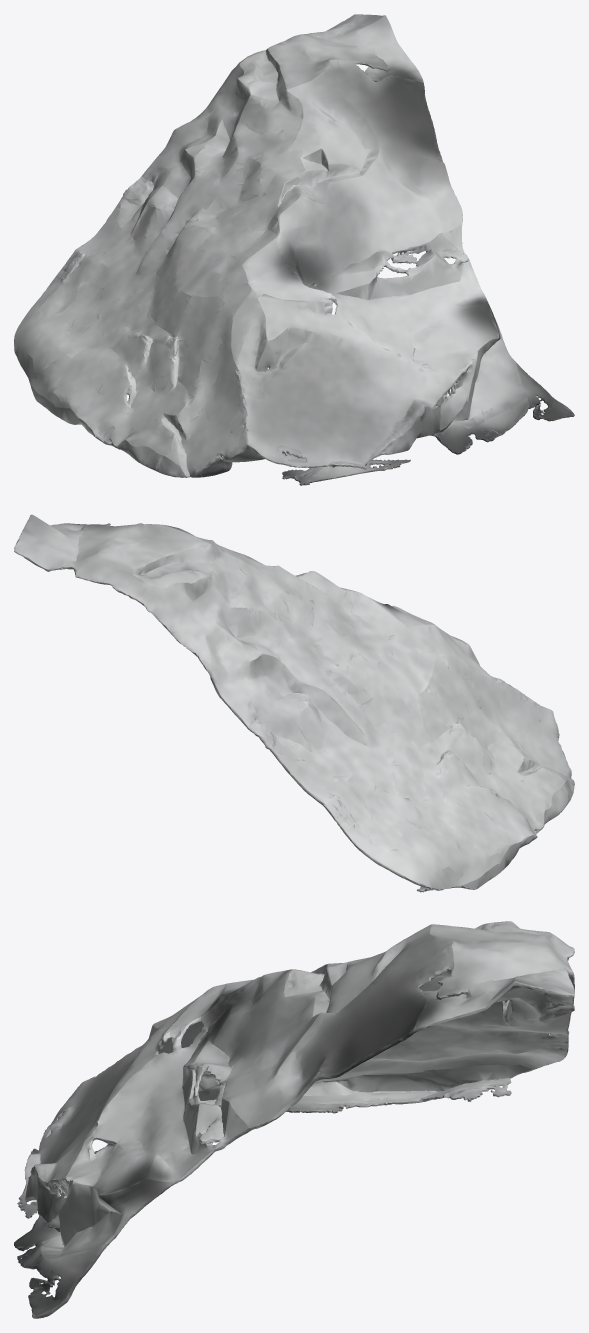
3 views of the same model, one above another, from view 1: azimuth 30°, elevation 25°; view 2: azimuth 150°, elevation 25°; view 3: azimuth 270°, elevation 25° (orthographic). The views are drawn at different scales.
Parts seen in each view (by area): view 1: world; view 2: world; view 3: world.
Boxes of the visible parts, box(x1,y1,x2,y2) form: world: box(14, 14, 574, 485); world: box(14, 514, 574, 892); world: box(14, 921, 574, 1318).
Bounding box in the file's own units: 0.35 × 0.2399 × 0.3497.
Materials: 1 (1 with a texture image).
